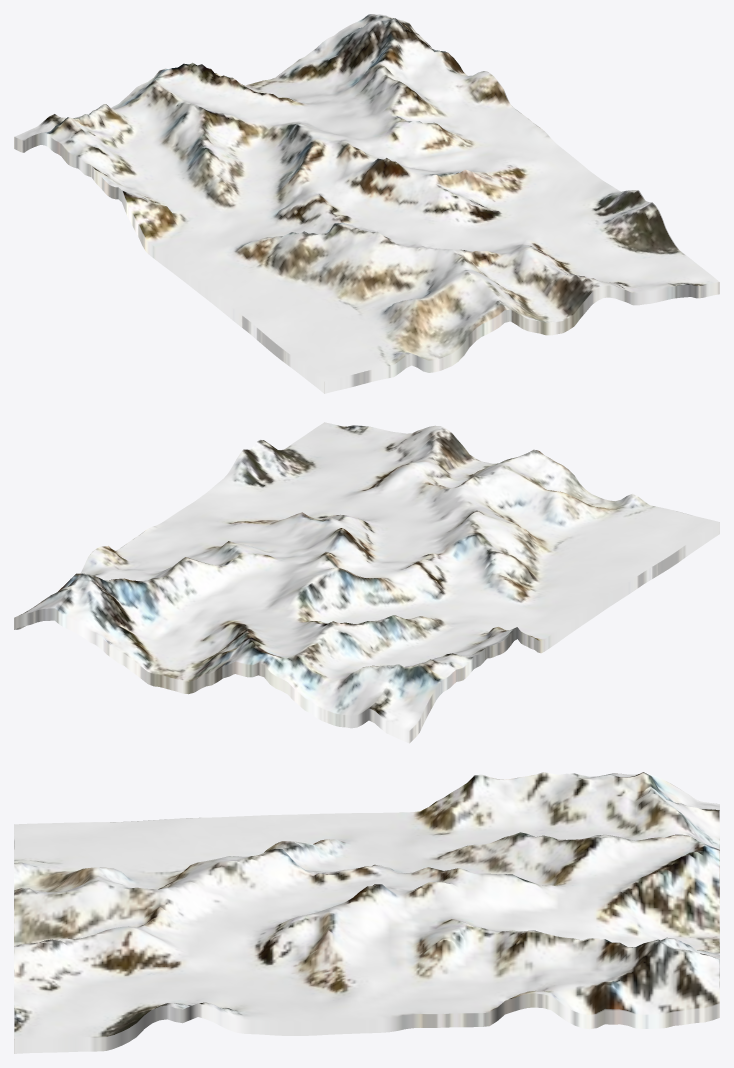
3 renders of one model, top to bottom at view 1: azimuth 30°, elevation 25°; view 2: azimuth 150°, elevation 25°; view 3: azimuth 270°, elevation 25°, orthographic. The views are drawn at different scales.
Parts seen in each view (by area): view 1: tile; view 2: tile; view 3: tile.
Part boxes in pixels (x1,y1,x2,y2): tile: [14, 14, 719, 393]; tile: [14, 422, 719, 743]; tile: [14, 772, 719, 1053].
Bounding box in the file's own units: 8100 × 1702 × 11010.
1 material, 1 textured.
